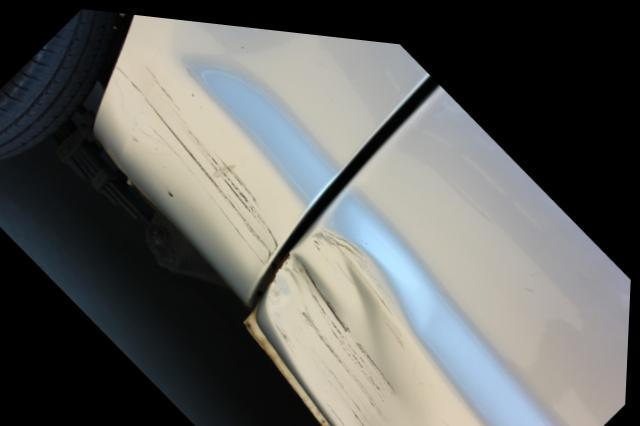dent: (270, 233, 423, 426)
scratch: (119, 62, 283, 257)
